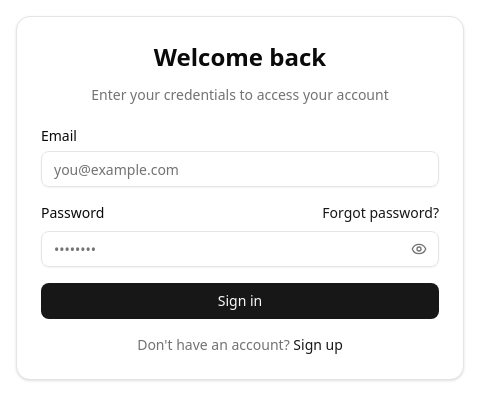
Test case: LoginPage › shows loading state while submitting
In the field labelled "Email": [240, 169] box [41,151,439,187], type "test@example.com"
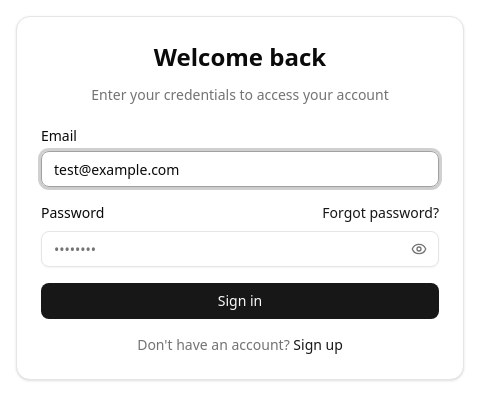
In the password field labelled "Password": [240, 249] box [41,231,439,267], type "password123"
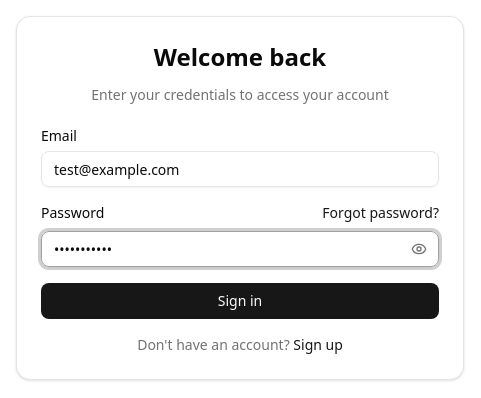
Click the button "Sign in": [240, 301] box [41,283,439,319]
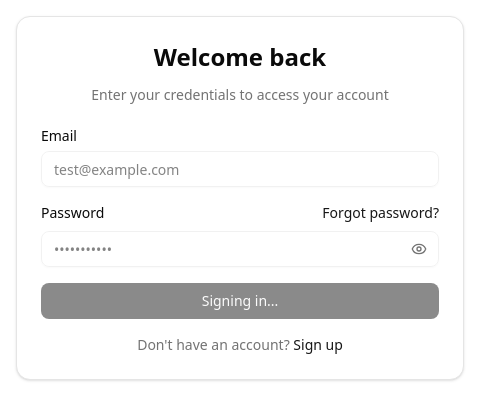
Now the button "Signing in..." is shown, box [41,283,439,319]
Now the field labelled "Email" is disabled, box [41,151,439,187]
Now the password field labelled "Password" is disabled, box [41,231,439,267]
